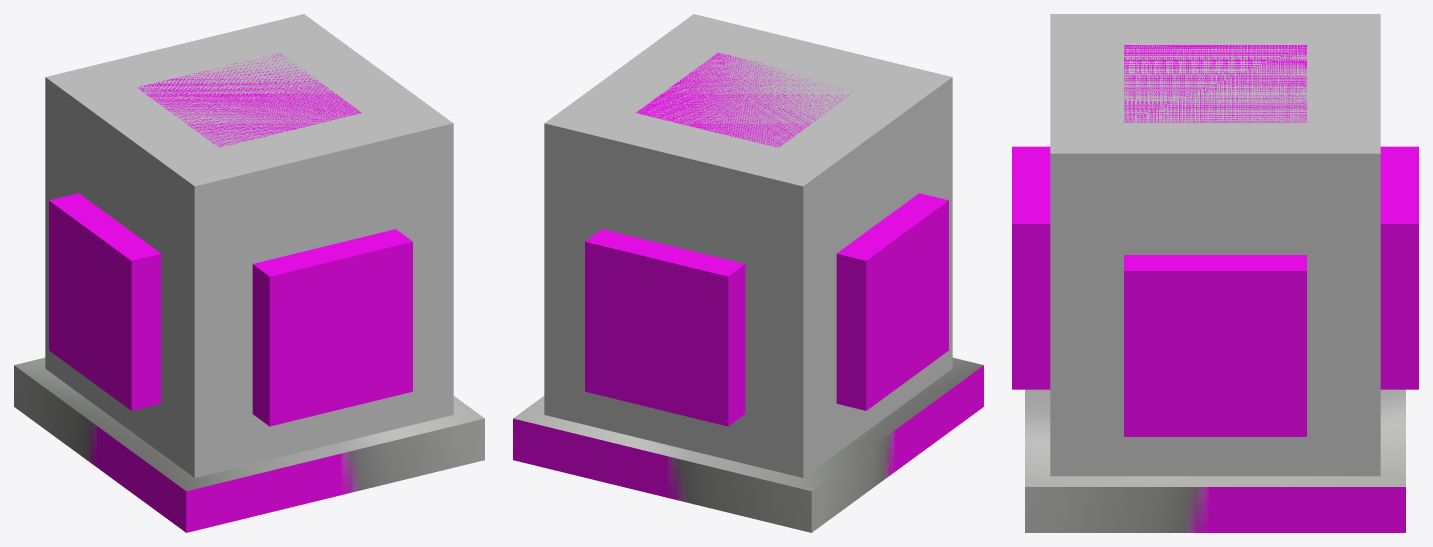
Rendered from pipemachines.obj.
3 renders of one model, left to right at view 1: azimuth 30°, elevation 25°; view 2: azimuth 150°, elevation 25°; view 3: azimuth 270°, elevation 25°, orthographic. The views are drawn at different scales.
Parts seen in each view (by area): view 1: Tank_tmdl, BaseplateConnector_pmdl_c, FlangeMY_pfmdl, FlangeMX_pfmdl, FlangePZ_pfmdl; view 2: Tank_tmdl, BaseplateConnector_pmdl_c, FlangePY_pfmdl, FlangeMX_pfmdl, FlangePZ_pfmdl; view 3: Tank_tmdl, FlangePX_pfmdl, BaseplateConnector_pmdl_c, FlangePZ_pfmdl, FlangePY_pfmdl, FlangeMY_pfmdl.
Boxes of the visible parts, x1,y1,x2,y2 form: Tank_tmdl: [45, 14, 453, 477]; BaseplateConnector_pmdl_c: [14, 357, 484, 532]; FlangeMY_pfmdl: [252, 229, 412, 426]; FlangeMX_pfmdl: [49, 193, 161, 410]; FlangePZ_pfmdl: [138, 53, 361, 147]; Tank_tmdl: [544, 14, 952, 477]; BaseplateConnector_pmdl_c: [513, 357, 983, 532]; FlangePY_pfmdl: [585, 229, 745, 426]; FlangeMX_pfmdl: [836, 193, 948, 410]; FlangePZ_pfmdl: [636, 52, 848, 147]; Tank_tmdl: [1050, 14, 1380, 476]; FlangePX_pfmdl: [1124, 255, 1306, 436]; BaseplateConnector_pmdl_c: [1025, 389, 1405, 532]; FlangePZ_pfmdl: [1124, 45, 1306, 122]; FlangePY_pfmdl: [1380, 146, 1418, 389]; FlangeMY_pfmdl: [1012, 146, 1050, 389].
Bounding box in the file's own units: 1 × 1 × 1.
